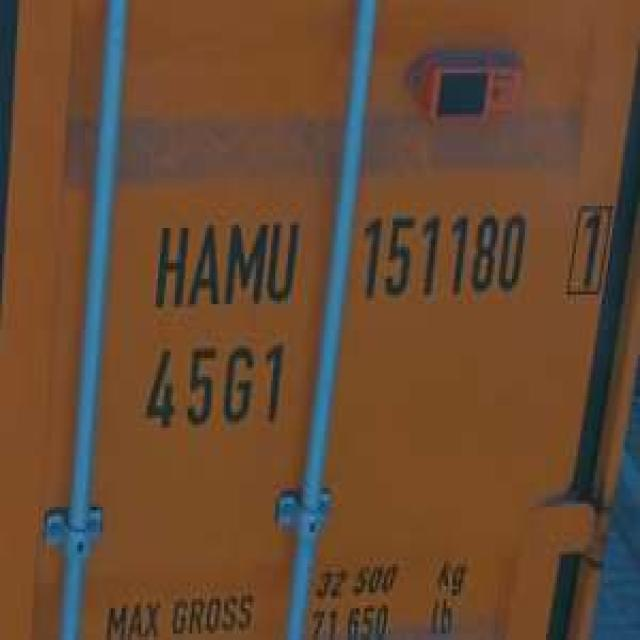dv: (561, 190, 617, 304)
owner: (145, 206, 303, 314)
serial: (354, 200, 529, 310)
size: (132, 330, 290, 437)
